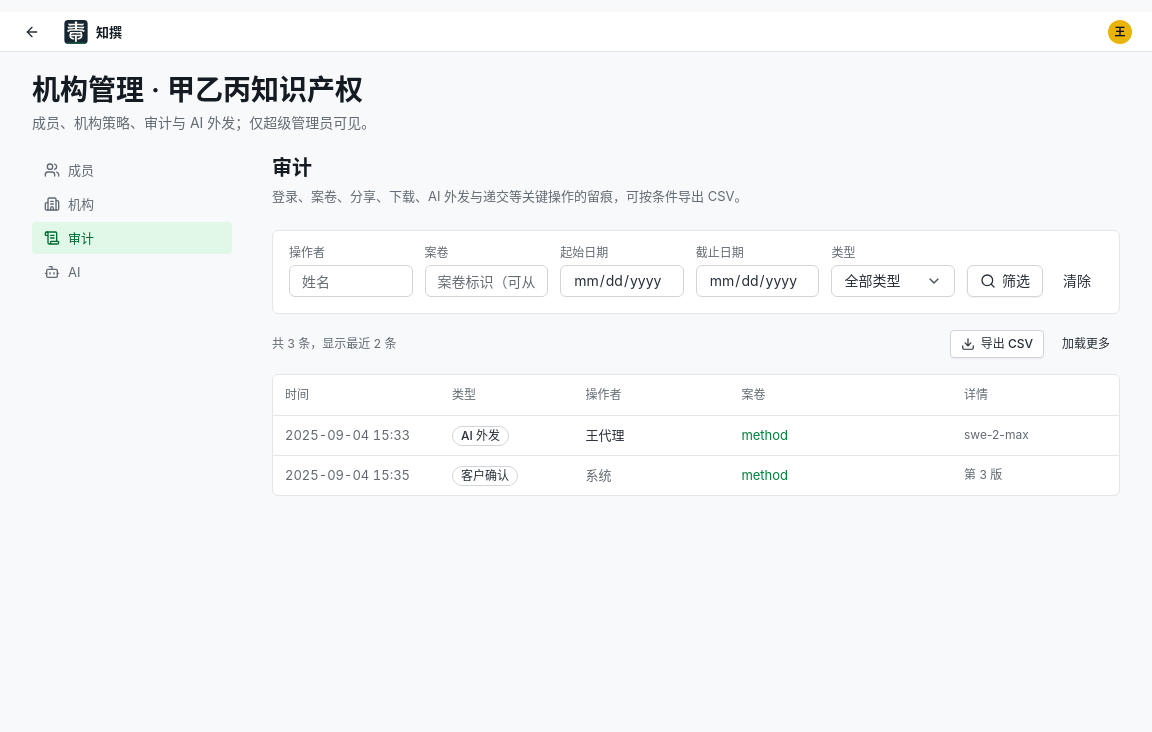
R-ADM-02 审计 › R115-批22：total>items →「加载更多」窗口 +PAGE 重查；到齐后按钮消失
Click the button with test id "audit-load-more": (1086, 344) [1052, 330, 1120, 358]
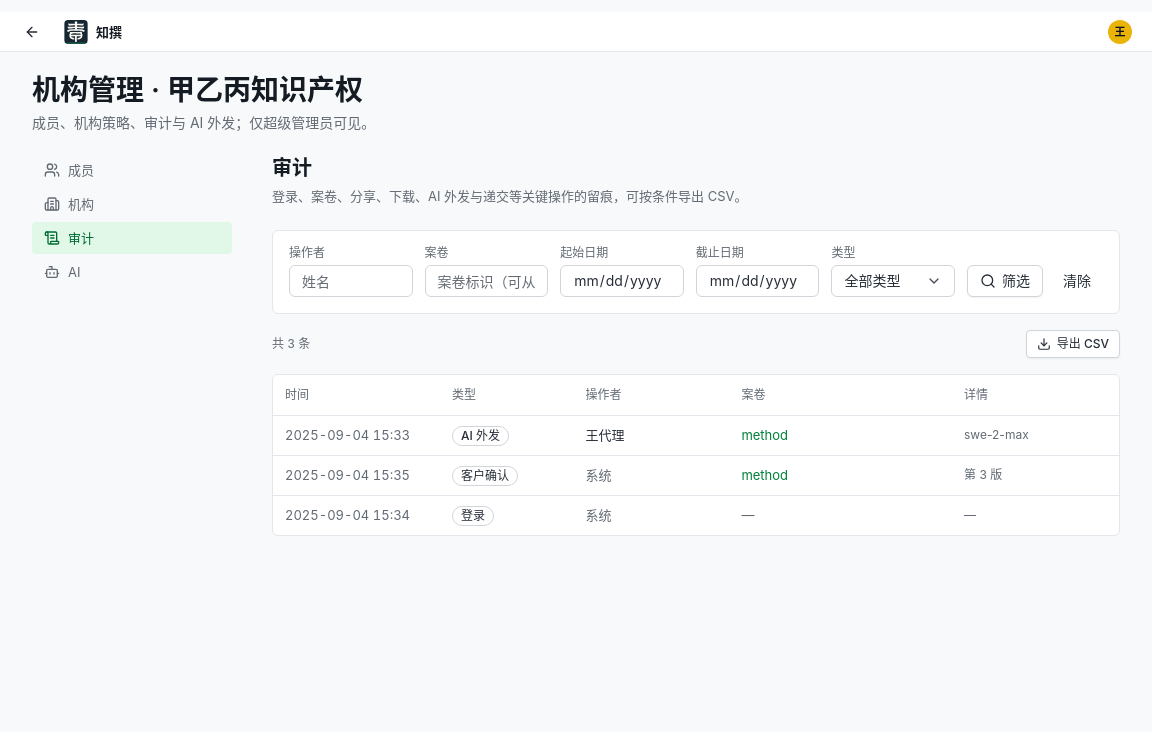
Expected: the button with test id "audit-load-more" is gone
